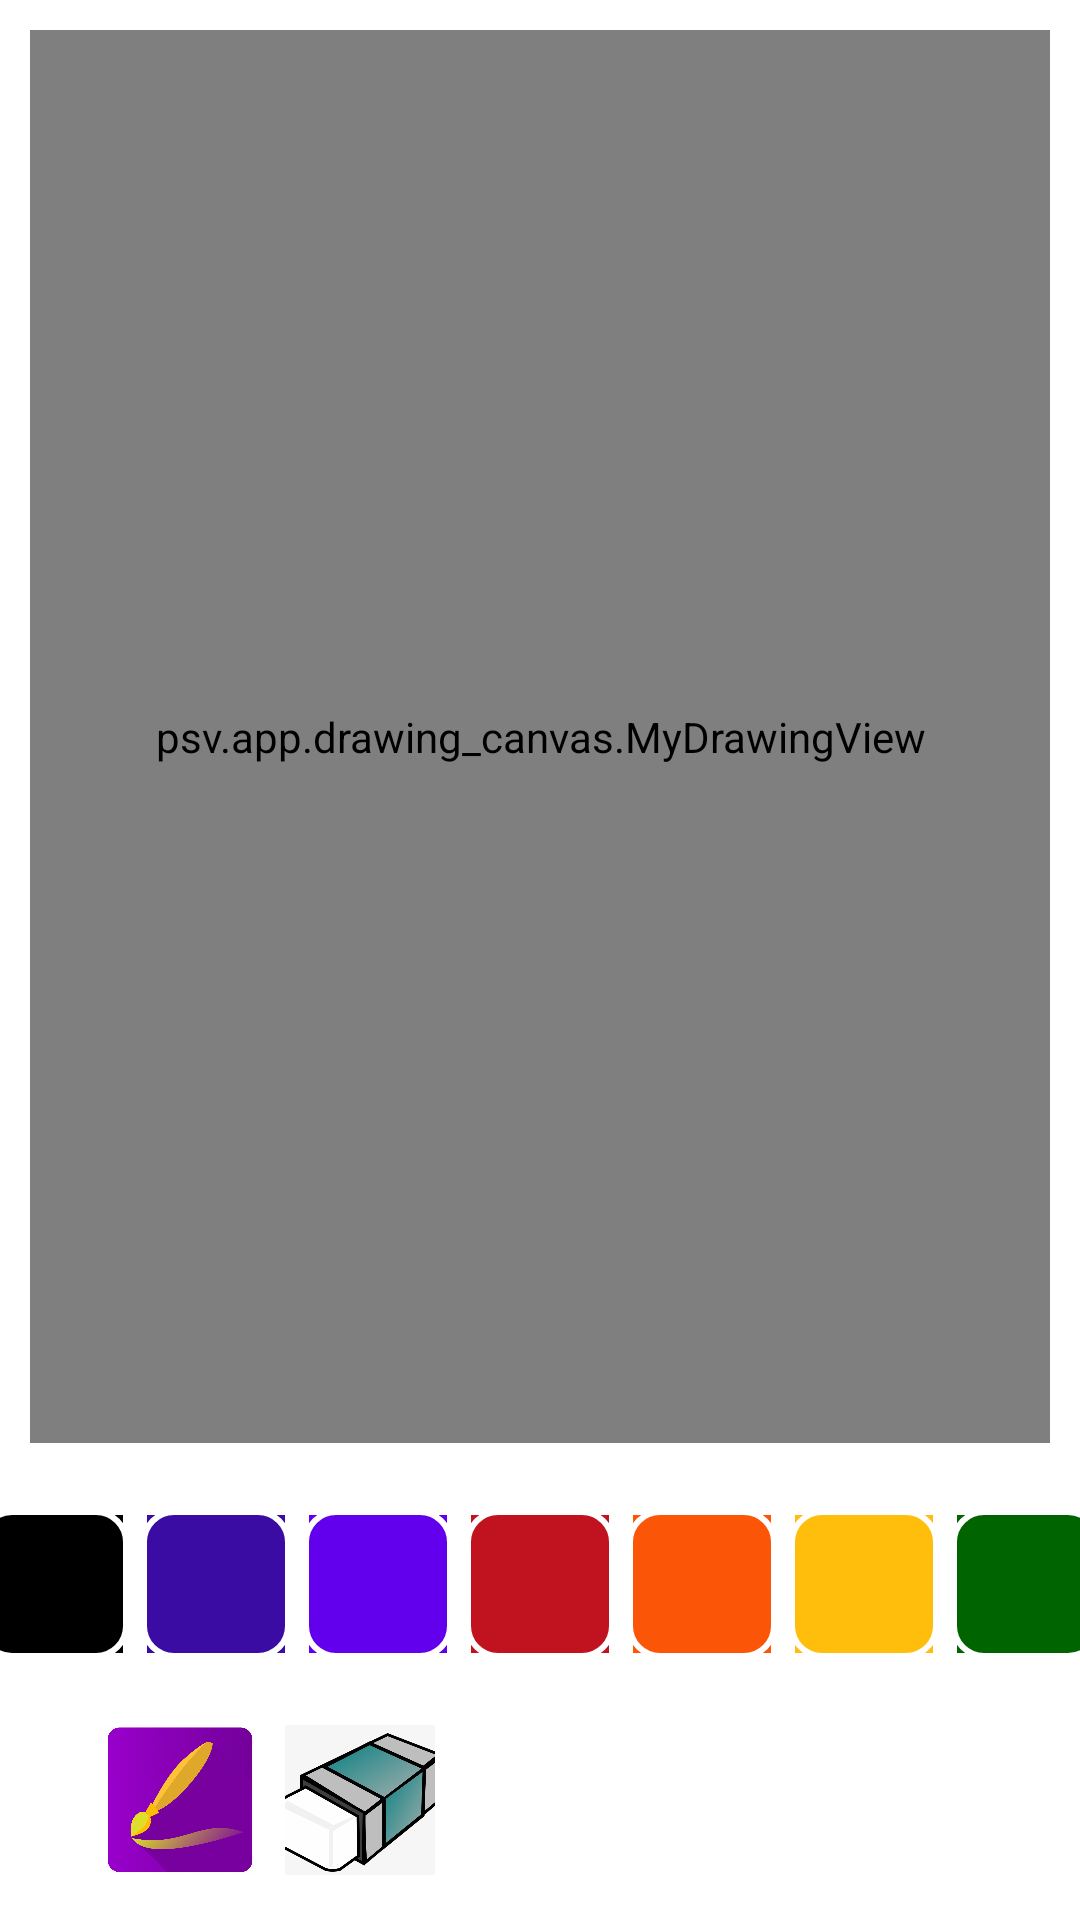

Named icons in this screenshot (1080*1920) and their bounding boxes, bbox=(x1, y1, x2, y2):
eraser: bbox=(285, 1725, 435, 1875)
